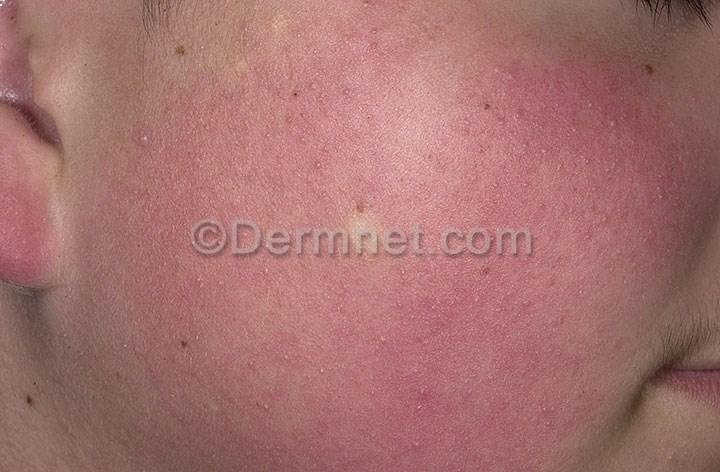eritema 3: (91, 0, 707, 471)
